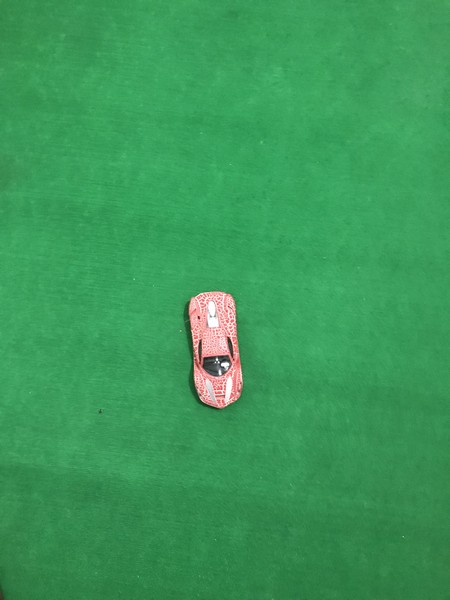RC: (185, 289, 247, 412)
